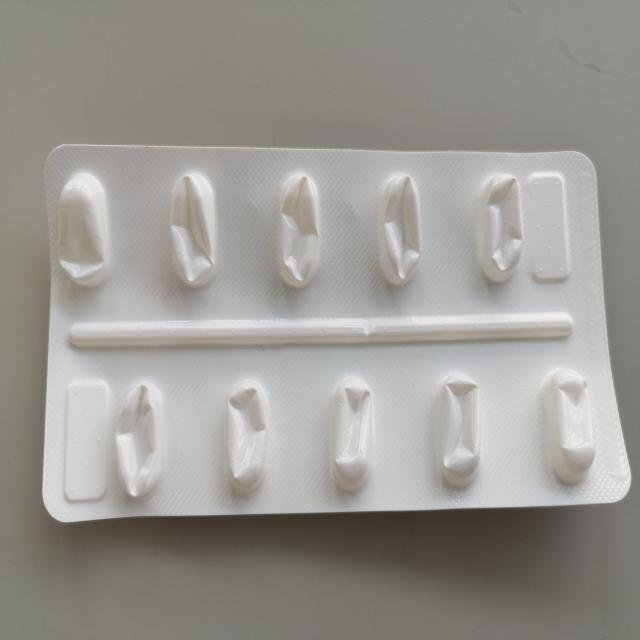Empty: (107, 371, 170, 511), (265, 163, 329, 296), (50, 170, 118, 295), (214, 370, 275, 504), (536, 361, 600, 488), (324, 366, 382, 503), (427, 363, 486, 497), (162, 163, 220, 298), (368, 166, 428, 292), (470, 165, 528, 288)
